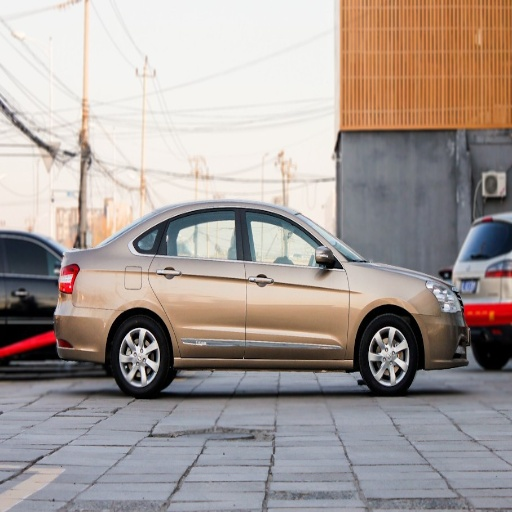back_right_door: (147, 208, 244, 356)
front_right_door: (244, 209, 348, 355)
